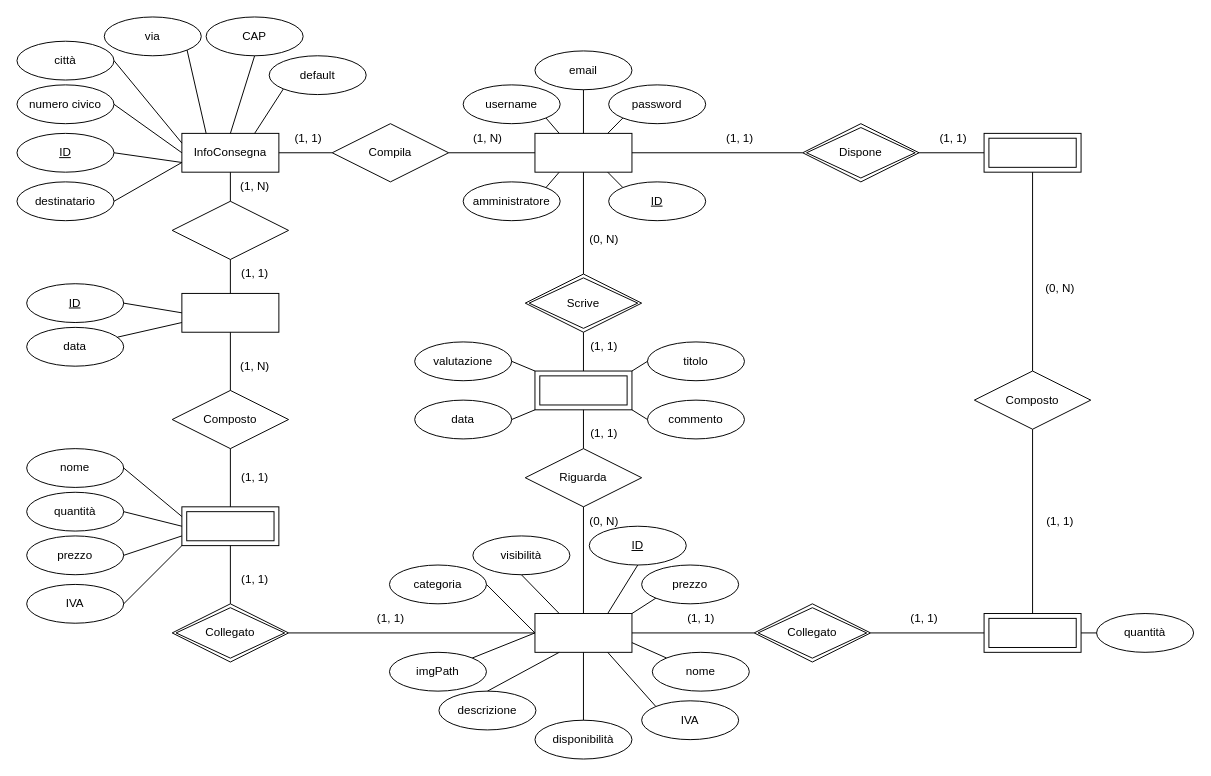
Some shapes in this 1211 by 776 pixel diagram are drawn without their labels. The box of each missing label's shape, as (x1, y1, x2, y2) in pixels:
Carrello: (983, 132, 1081, 172)
Necessario: (171, 200, 289, 259)
Ordine: (181, 292, 279, 332)
Prodotto: (534, 613, 632, 652)
ProdottoCarrello: (983, 613, 1081, 652)
ProdottoOrdine: (181, 506, 279, 546)
Recensione: (534, 370, 632, 410)
Utente: (534, 132, 632, 172)
